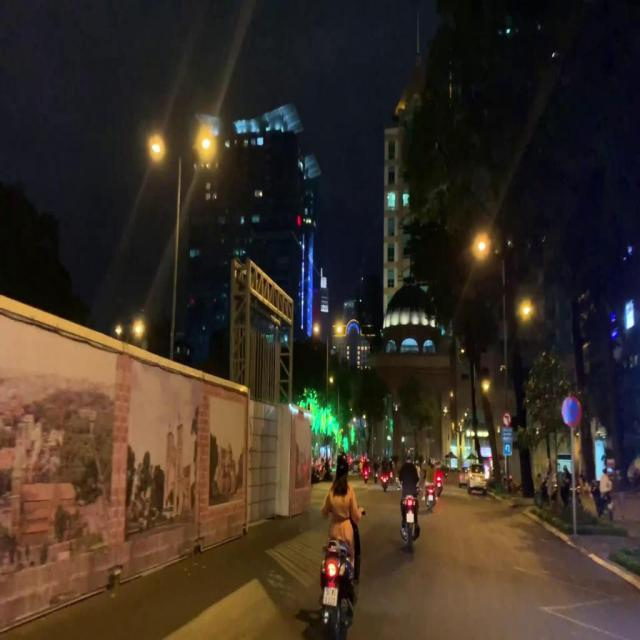cam_do_xe: (562, 396, 580, 426)
cam_re_trai: (502, 411, 512, 426)
cho_quay_xe: (503, 440, 512, 456)
khac: (502, 426, 512, 441)
